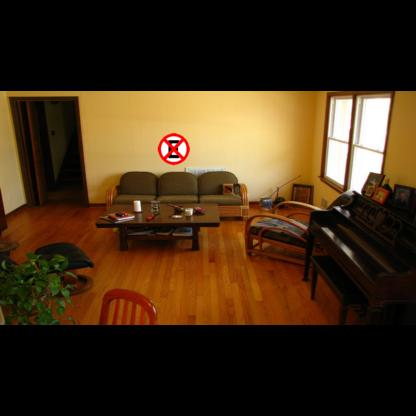R-6c: (158, 133, 190, 165)
